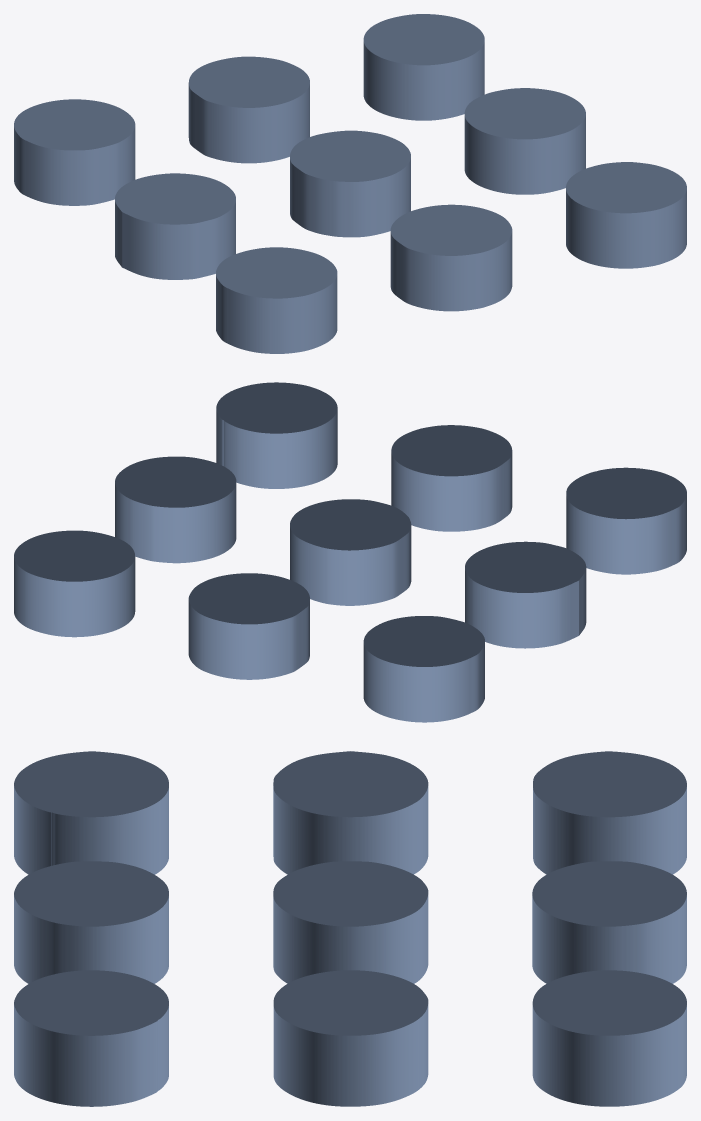
Rendered from ROS.glb.
3 renders of one model, top to bottom at view 1: azimuth 30°, elevation 25°; view 2: azimuth 150°, elevation 25°; view 3: azimuth 270°, elevation 25°, orthographic. The views are drawn at different scales.
Parts seen in each view (by area): view 1: Node7, Node5, Node8, Node3, Node2, Node6, Node9, Node1, Node4; view 2: Node2, Node9, Node6, Node3, Node1, Node4, Node7, Node8, Node5; view 3: Node3, Node8, Node9, Node4, Node1, Node5, Node2, Node7, Node6.
Part boxes in pixels (x1,y1,x2,y2): Node7: (390,204,512,311); Node5: (216,247,337,353); Node8: (566,162,686,268); Node3: (464,88,585,194); Node2: (188,56,309,163); Node6: (14,99,135,205); Node9: (363,14,484,120); Node1: (290,130,410,237); Node4: (115,173,235,279); Node2: (188,573,309,679); Node9: (14,530,135,637); Node6: (363,616,484,722); Node3: (115,456,236,563); Node1: (290,499,411,605); Node4: (465,541,586,648); Node7: (391,425,512,531); Node8: (216,382,337,488); Node5: (566,467,686,574); Node3: (273,970,428,1106); Node8: (14,970,168,1106); Node9: (532,970,686,1106); Node4: (273,751,428,874); Node1: (273,861,428,983); Node5: (14,751,168,874); Node2: (532,861,686,983); Node7: (14,861,168,983); Node6: (533,751,686,874).
Size of what is drawn, in the model's own units: 86.03 by 10 by 85.94.
